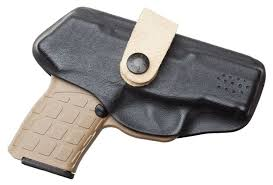gun: (5, 2, 268, 181)
